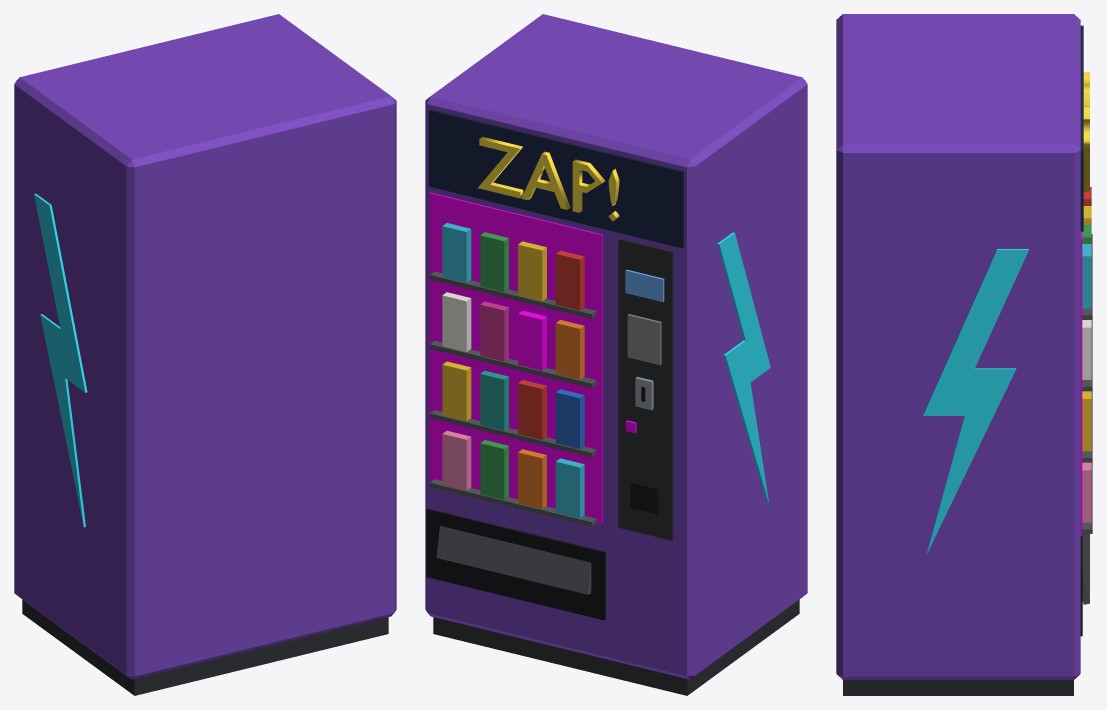
Rendered from prop_vending.glb.
3 views of the same model, side by side, from view 1: azimuth 30°, elevation 25°; view 2: azimuth 150°, elevation 25°; view 3: azimuth 270°, elevation 25° (orthographic). The views are drawn at different scales.
Visible parts, largest first — view 1: prop_vending__mesh; view 2: prop_vending__mesh; view 3: prop_vending__mesh.
Part boxes in pixels (x1,y1,x2,y2): prop_vending__mesh: (14,14,396,695); prop_vending__mesh: (425,14,807,695); prop_vending__mesh: (836,14,1092,695).
Size of the model in its own units: 1.02 by 1.9 by 0.7975.
Materials: 1 (1 with a texture image).
